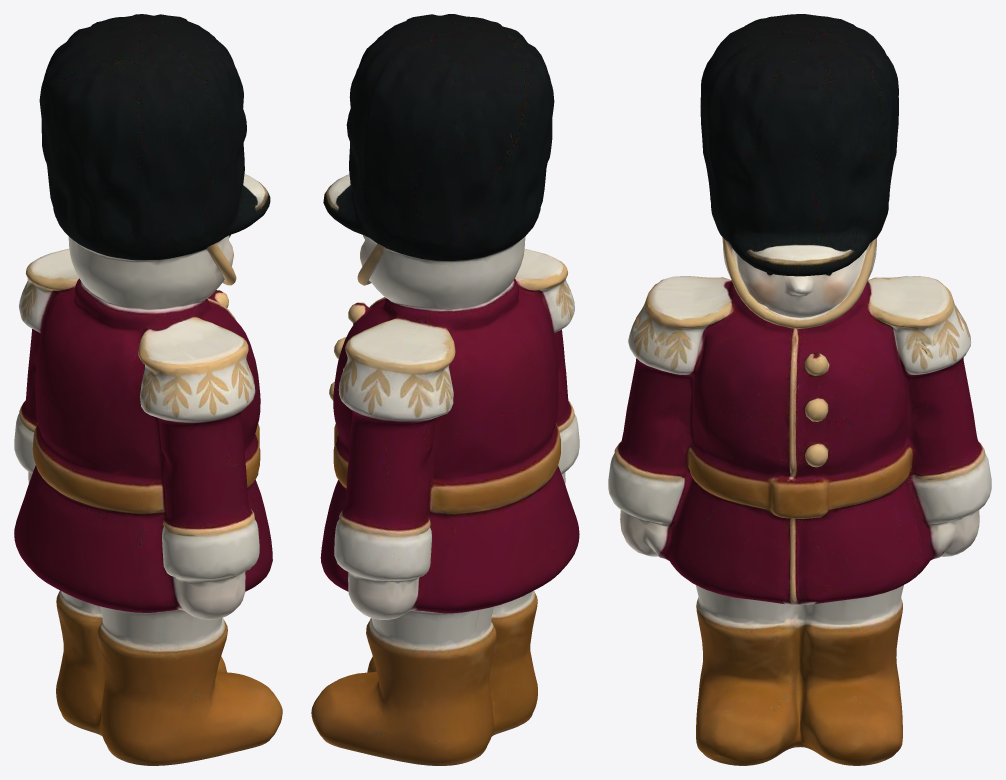
The model's file is soldier.glb.
3 views of the same model, side by side, from view 1: azimuth 30°, elevation 25°; view 2: azimuth 150°, elevation 25°; view 3: azimuth 270°, elevation 25° (orthographic).
Size of the model in its own units: 0.6681 by 2 by 1.01.
1 material, 1 textured.
